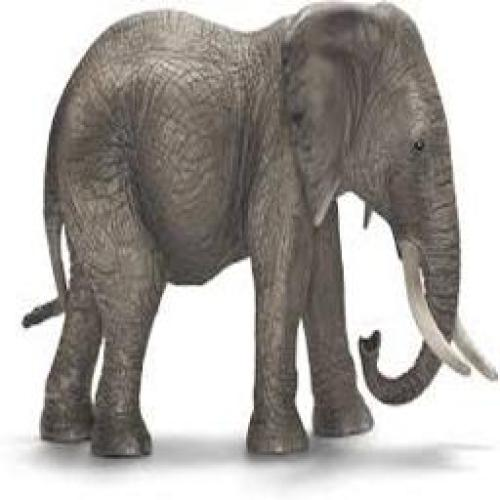african_elephant-endangered: (26, 9, 495, 461)
